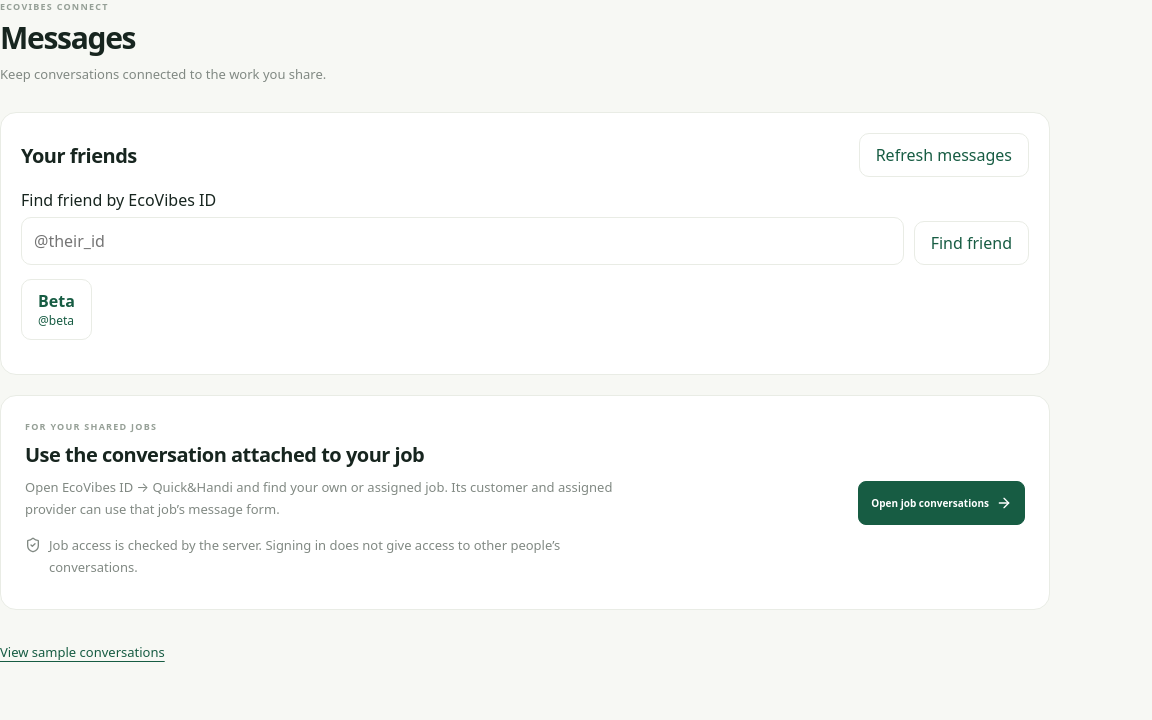
Test case: accepted-friend text conversations › opens a real friend conversation, displays saved text and sends without HTML execution
Click the button with aria-label "Message Beta". click: (56, 310)
box: [21,279,92,340]
(page scrolled)
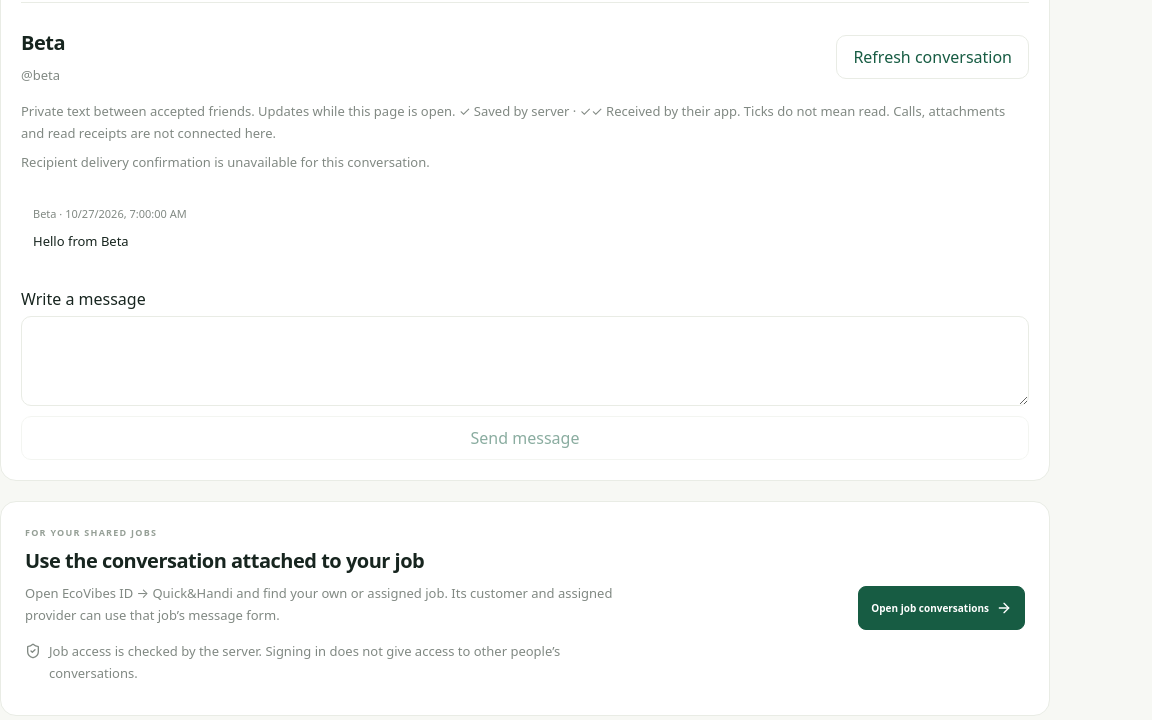
Check: the text "Hello from Beta" is shown, box [33,232,129,250]
Type "<b>hello</b>" into the text box labelled "Write a message". click: (525, 361)
box: [21,316,1029,406]
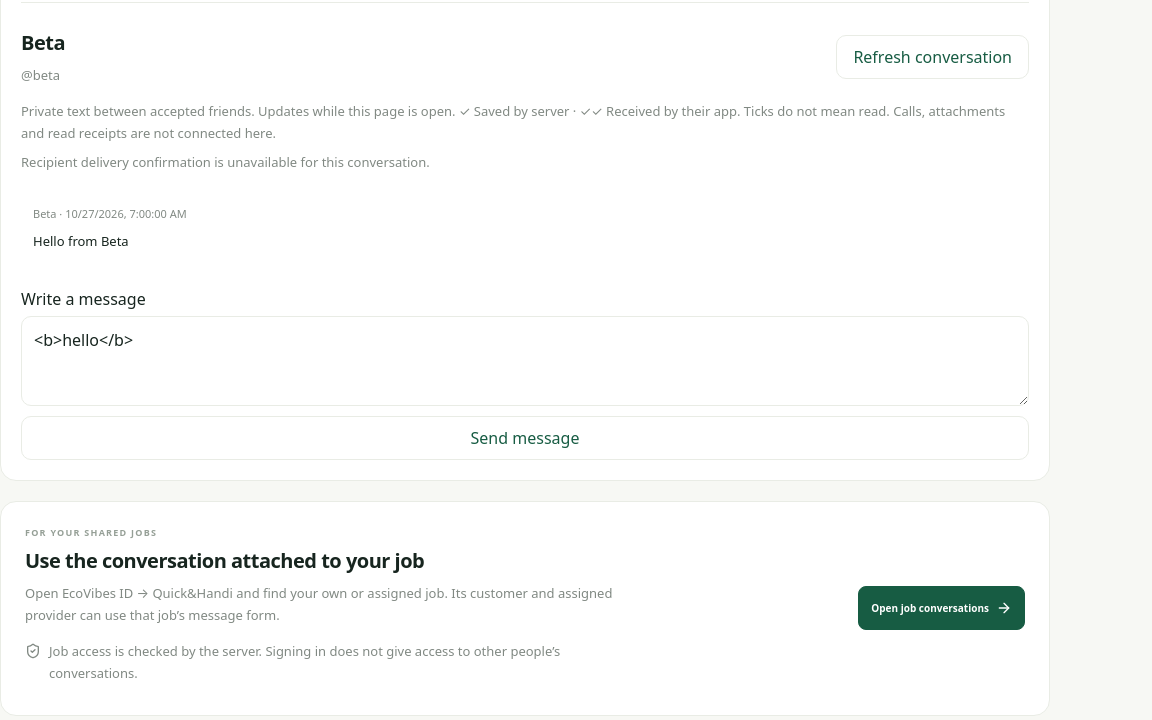
Click the button "Send message". click: (525, 438)
box: [21,416,1029,460]
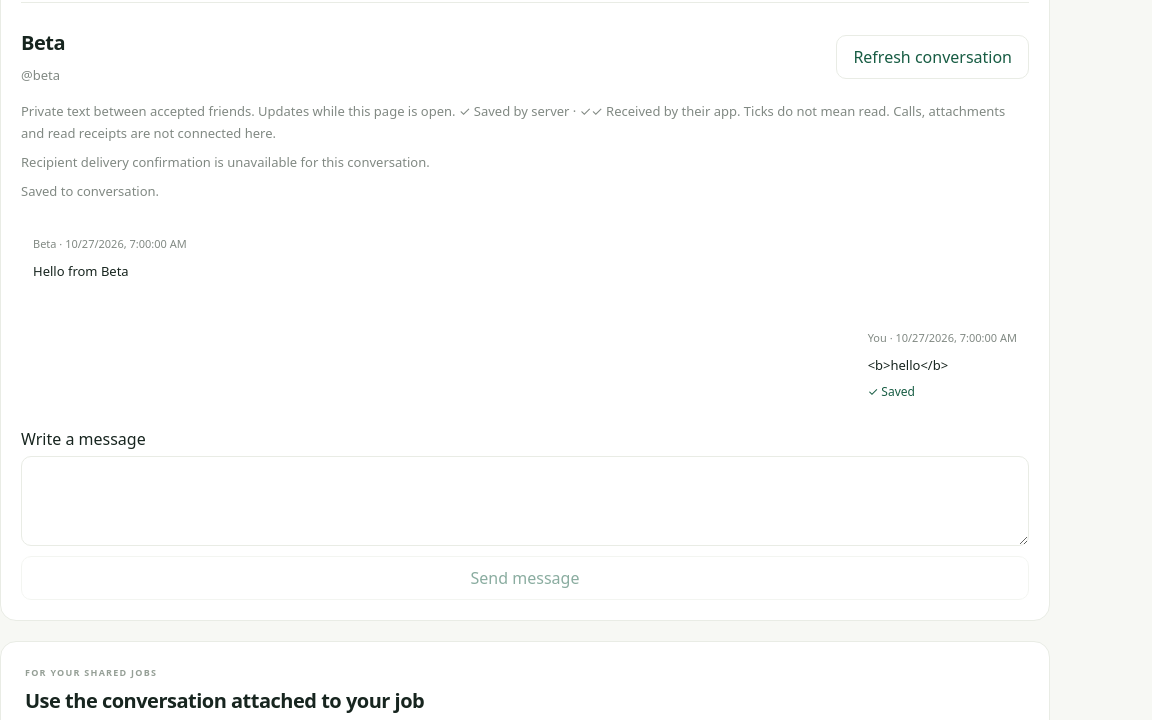
Check: the text "Saved to conversation." is shown, box [21,182,159,200]
Check: the text box labelled "Write a message" is empty, box [21,456,1029,546]
